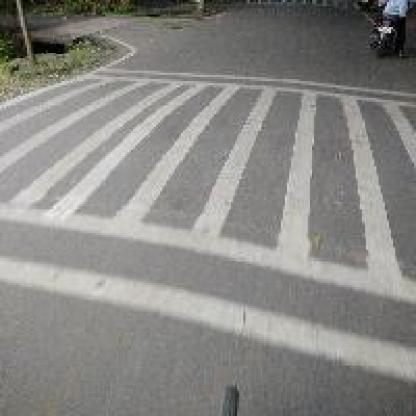Speed Bump: (0, 67, 412, 384)
